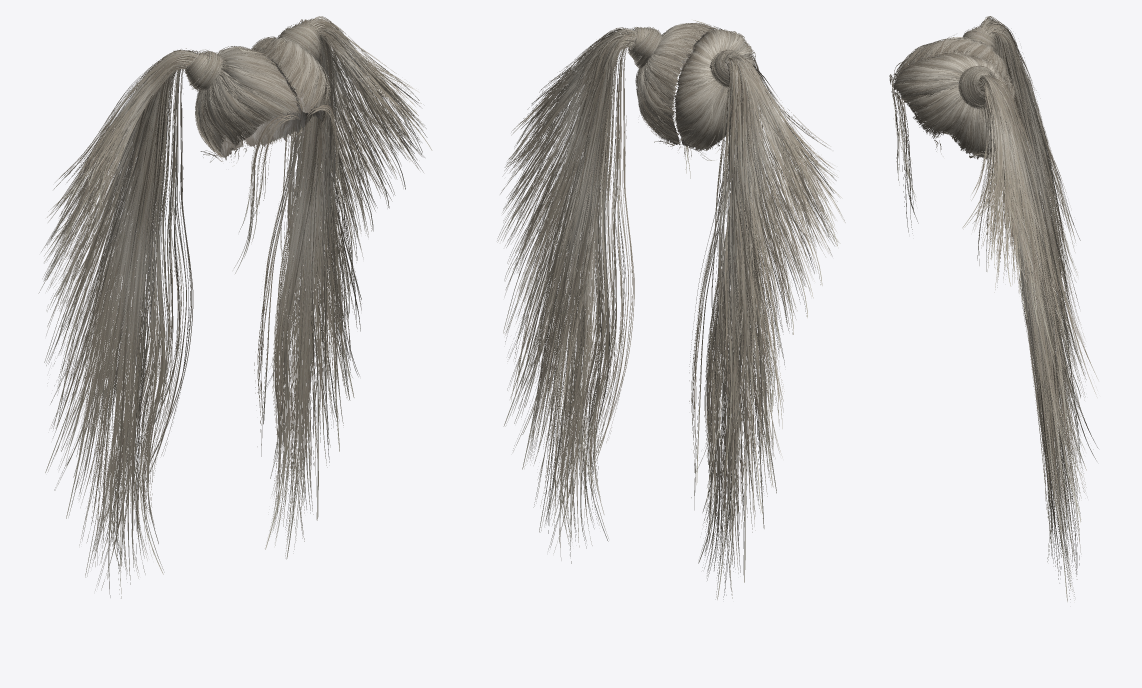
File: dint_hair_27.glb
3 views of the same model, side by side, from view 1: azimuth 30°, elevation 25°; view 2: azimuth 150°, elevation 25°; view 3: azimuth 270°, elevation 25° (orthographic). The views are drawn at different scales.
Parts seen in each view (by area): view 1: TailL01_TailL01, TailL00_TailL00, Tail01_Tail01, TailL03_TailL03, Tail00_Tail00, TailL02_TailL02, Tail03_Tail03, TailL07_TailL07, topL2_topL2, TailL06_TailL06, Tail04_Tail04, Tail02_Tail02 (+13 smaller); view 2: Tail00_Tail00, TailL07_TailL07, Tail07_Tail07, TailL04_TailL04, Tail01_Tail01, Tail04_Tail04, Tail02_Tail02, TailL02_TailL02, TailL01_TailL01, TailL00_TailL00, Tail03_Tail03, TailL06_TailL06 (+12 smaller); view 3: TailL07_TailL07, Tail04_Tail04, topR2_topR2, Tail06_Tail06, Tail01_Tail01, Tail07_Tail07, topR1_topR1, Tail05_Tail05, Tail03_Tail03, Tail02_Tail02, TailL02_TailL02, Hl02_Hl02 (+11 smaller).
Boxes of the visible parts, x1,y1,x2,y2 form: TailL01_TailL01: (52,50,198,590); TailL00_TailL00: (105,69,193,578); Tail01_Tail01: (290,28,350,541); TailL03_TailL03: (91,71,175,598); Tail00_Tail00: (254,41,326,549); TailL02_TailL02: (45,63,194,490); Tail03_Tail03: (280,23,323,559); TailL07_TailL07: (44,48,195,437); topL2_topL2: (195,46,300,161); TailL06_TailL06: (47,51,198,242); Tail04_Tail04: (303,19,413,262); Tail02_Tail02: (294,30,361,433); Tail00_Tail00: (555,37,635,548); TailL07_TailL07: (695,58,796,473); Tail07_Tail07: (503,32,636,442); TailL04_TailL04: (726,58,829,356); Tail01_Tail01: (510,34,635,553); Tail04_Tail04: (497,33,635,290); Tail02_Tail02: (503,38,634,461); TailL02_TailL02: (723,62,784,517); TailL01_TailL01: (721,57,773,598); TailL00_TailL00: (689,61,737,580); Tail03_Tail03: (544,34,633,563); TailL06_TailL06: (727,55,842,242); TailL07_TailL07: (978,22,1098,397); Tail04_Tail04: (979,75,1079,371); topR2_topR2: (894,52,1015,157); Tail06_Tail06: (962,75,1042,268); Tail01_Tail01: (977,74,1075,600); Tail07_Tail07: (977,76,1098,470); topR1_topR1: (894,53,1010,158); Tail05_Tail05: (982,75,1032,321); Tail03_Tail03: (988,76,1081,601); Tail02_Tail02: (977,83,1087,522); TailL02_TailL02: (988,27,1085,410); Hl02_Hl02: (896,42,1009,157).
Size of the model in its own units: 0.6881 by 1.05 by 0.3835.
Materials: 27 (27 with a texture image).
